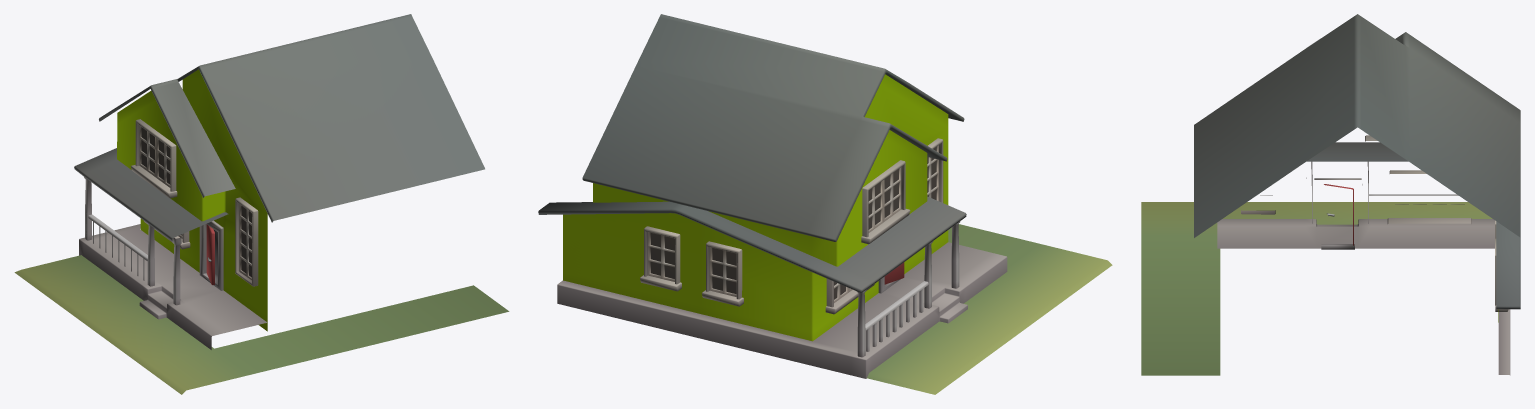
The model's file is House03.glb.
3 views of the same model, side by side, from view 1: azimuth 30°, elevation 25°; view 2: azimuth 150°, elevation 25°; view 3: azimuth 270°, elevation 25° (orthographic). The views are drawn at different scales.
Parts seen in each view (by area): view 1: House03; view 2: House03; view 3: House03.
Part boxes in pixels (x1=…): House03: x1=14, y1=14, x2=509, y2=394; House03: x1=538, y1=14, x2=1112, y2=394; House03: x1=1141, y1=14, x2=1520, y2=375.
Size of the model in its own units: 22.15 by 13.13 by 17.9.
Materials: 2 (1 with a texture image).
